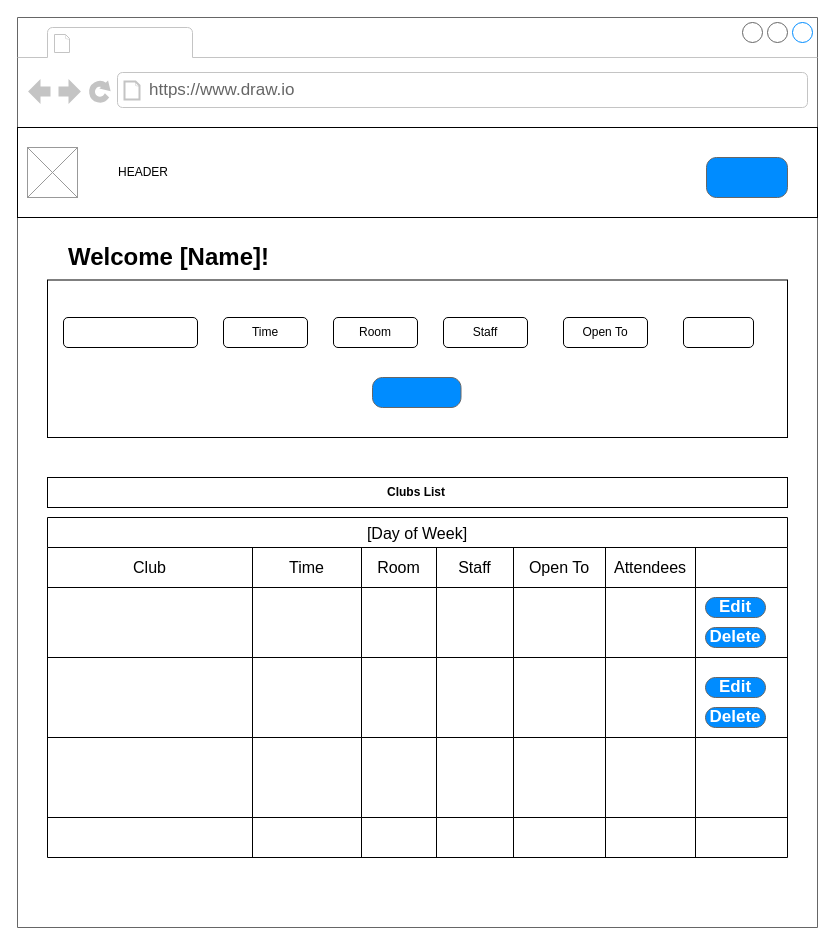
The diagram is 835 pixels wide and 945 high, and some of its shapes have lost their labels. Each missing label, with the centre of its shape:
Add Club: (x=416, y=392)
Club name: (x=130, y=332)
Log out: (x=747, y=177)
Max Attendees: (x=718, y=332)
Page 1: (x=132, y=42)
